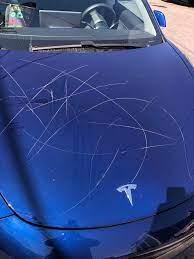bonnet-dent: (0, 50, 126, 258), (87, 48, 193, 258)
